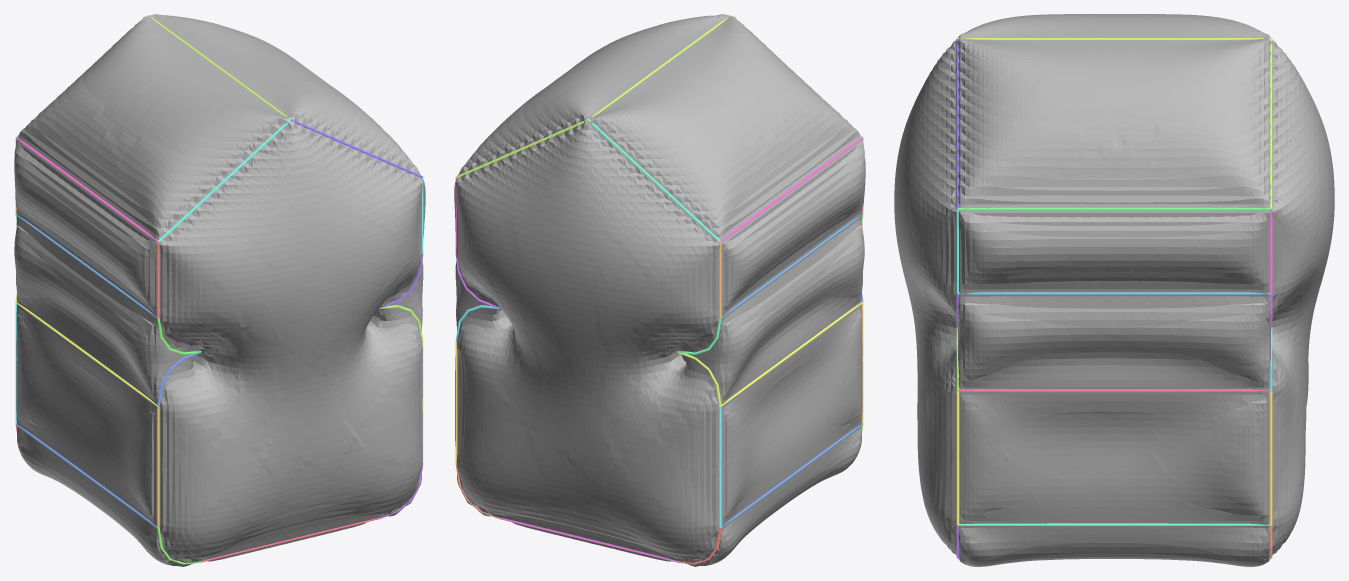
Rendered from onshape_house.gltf.
3 renders of one model, left to right at view 1: azimuth 30°, elevation 25°; view 2: azimuth 150°, elevation 25°; view 3: azimuth 270°, elevation 25°, orthographic. The views are drawn at different scales.
Size of the model in its own units: 0.5434 by 0.7722 by 0.6415.
